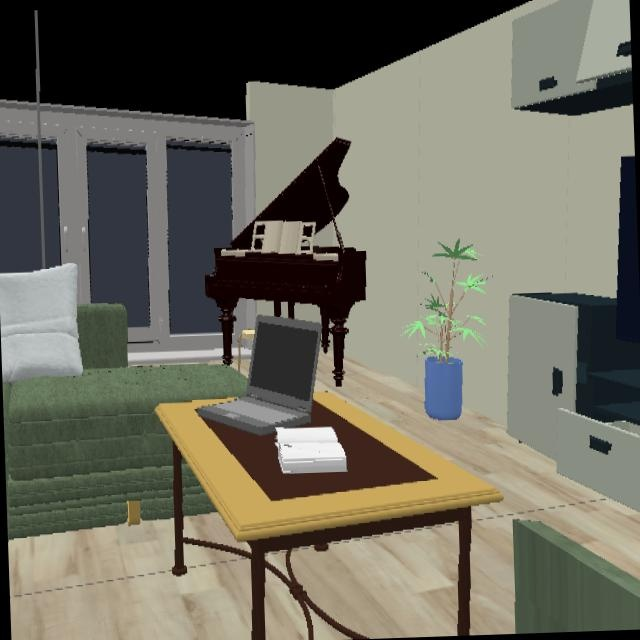book: (271, 426, 349, 476)
cabinet: (507, 292, 640, 513), (511, 0, 633, 115)
laptop: (201, 317, 321, 433)
monitor: (614, 155, 640, 346)
pillow: (0, 263, 84, 389)
sofa: (2, 304, 248, 541)
table: (154, 400, 501, 640)
